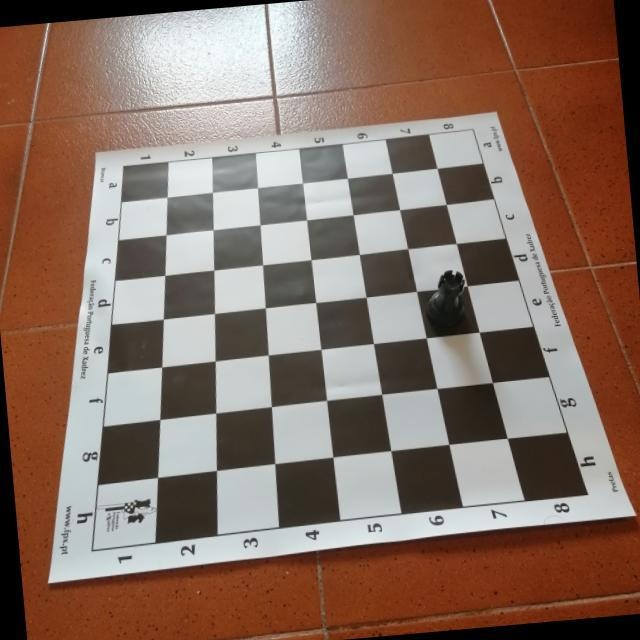black-rook: (421, 267, 469, 329)
